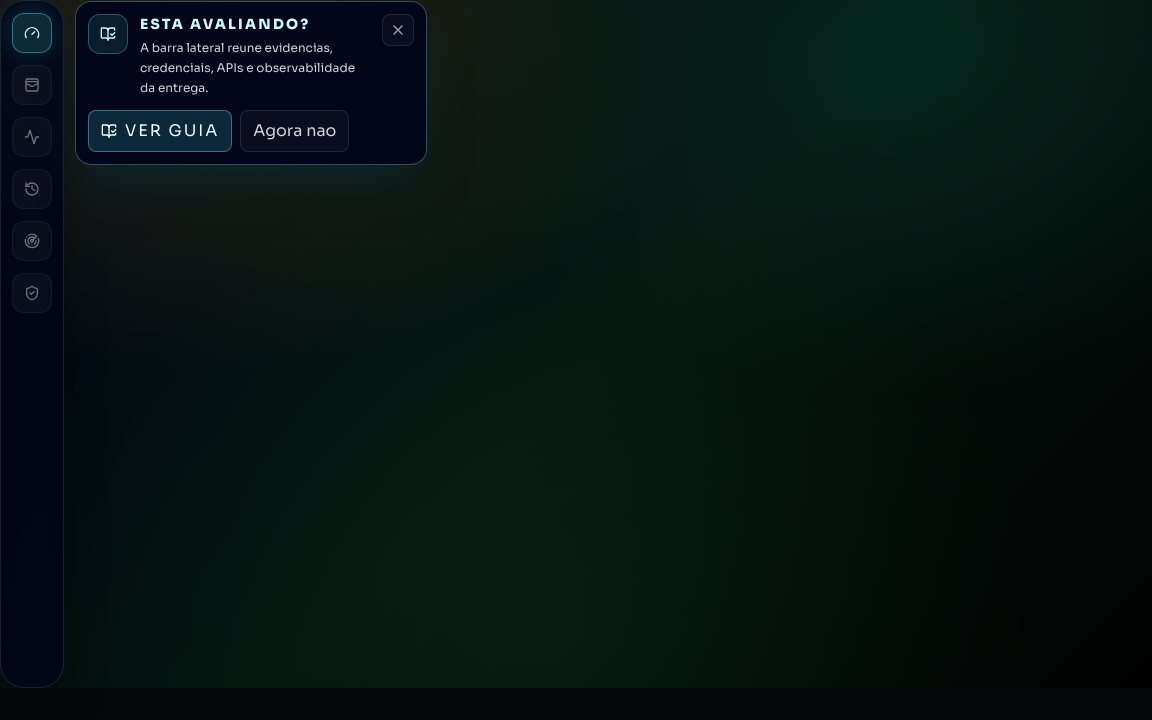
it: ChronoRail › opens evaluator access credentials for the game and dashboards
The width and height of the screenshot is (1152, 720).
Click the button named "Acessos". click: (32, 85)
box: [12,65,52,105]
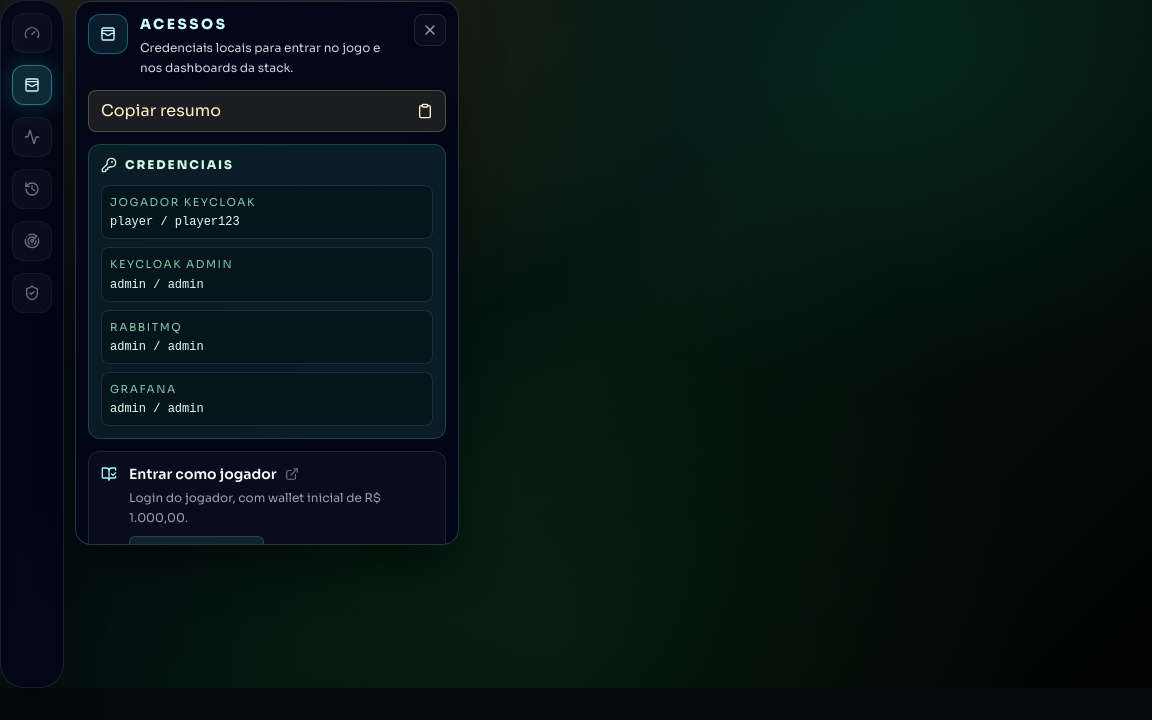
Check: the element named "Acessos do avaliador" is shown, box [75,1,459,545]
Check: the text "Jogador Keycloak" is shown, box [110,195,256,209]
Check: the text "Keycloak admin" is shown, box [110,257,233,271]
